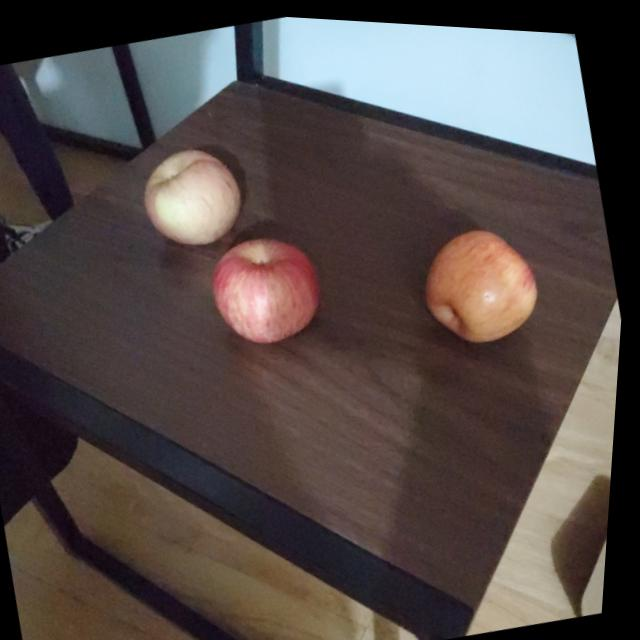apple: (415, 209, 553, 349), (206, 223, 338, 355), (133, 136, 252, 254)
